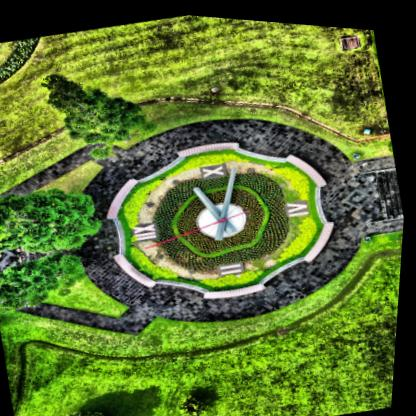tree-top: (34, 52, 151, 159), (0, 169, 115, 270), (0, 236, 101, 323), (59, 395, 133, 416), (178, 387, 220, 416), (391, 220, 406, 250)
